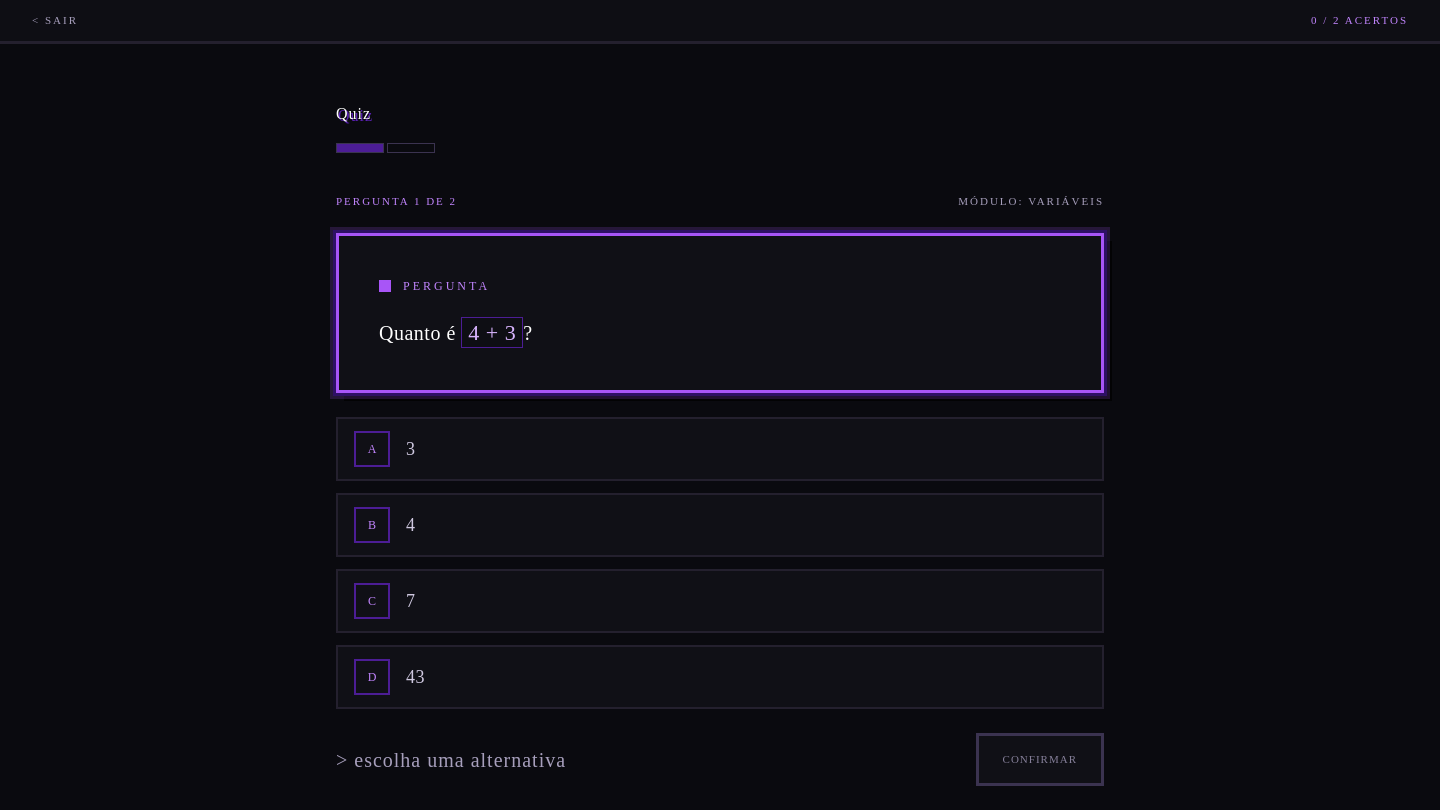
Test: QuizDaAula › conta o acerto e mostra a resposta certa quando erra
Click the button "C 7" at [372, 601], box 336,569 -> 1104,633
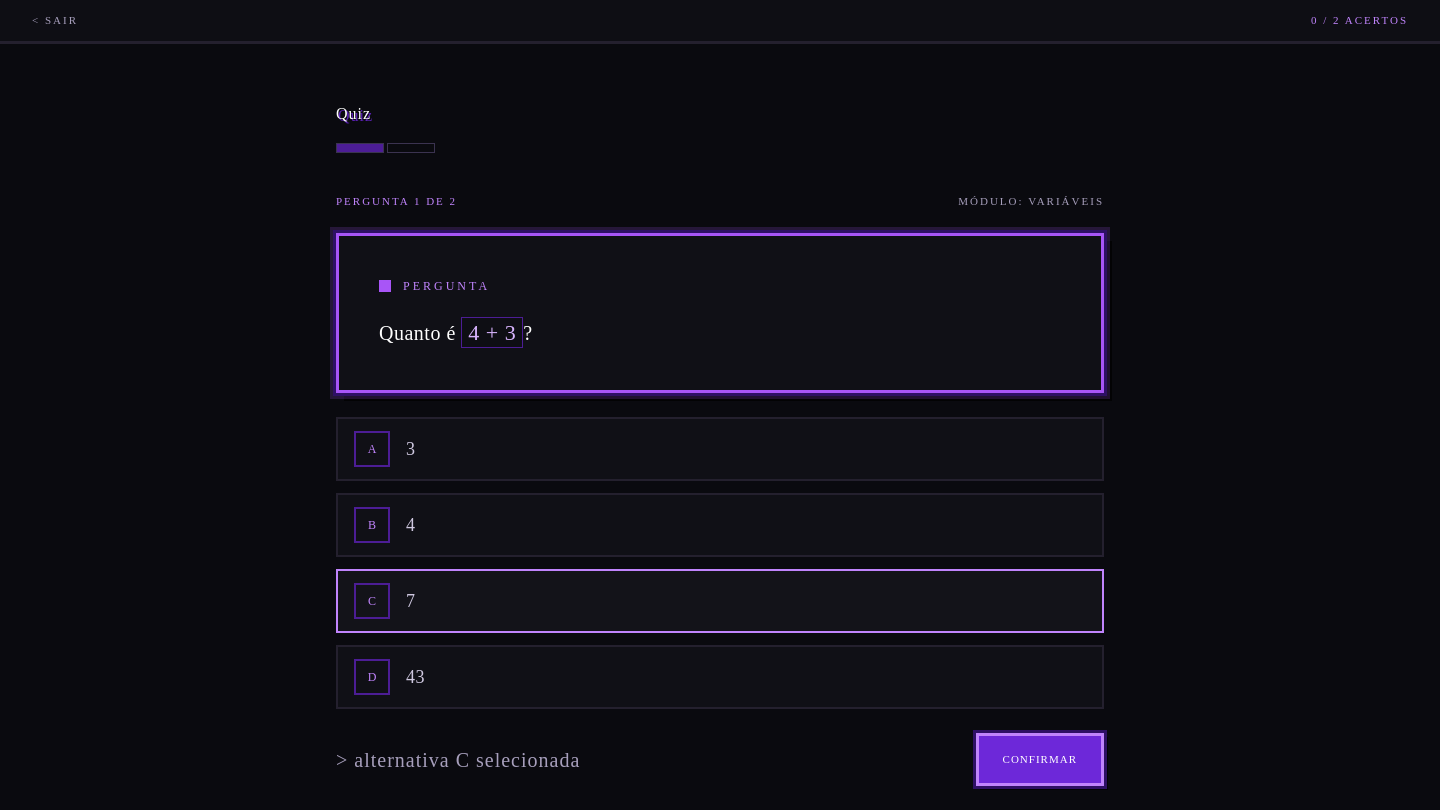
Click the button "Confirmar" at [1040, 760], box 976,733 -> 1104,786
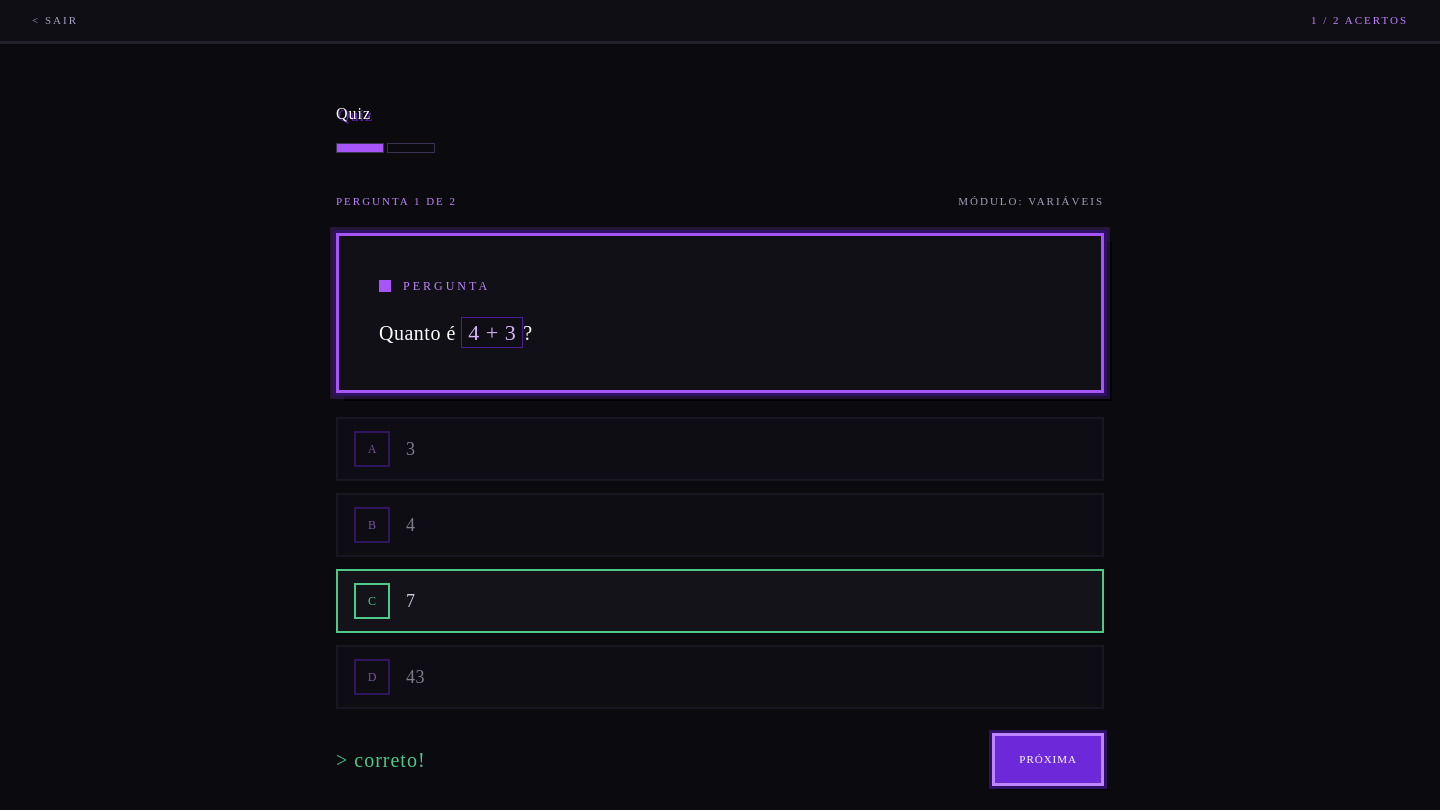
Now the text "> correto!" is shown, box 336,746 -> 426,774
Now the text "1 / 2 acertos" is shown, box 1311,12 -> 1408,28
Click the button "Próxima" at [1048, 760], box 992,733 -> 1104,786
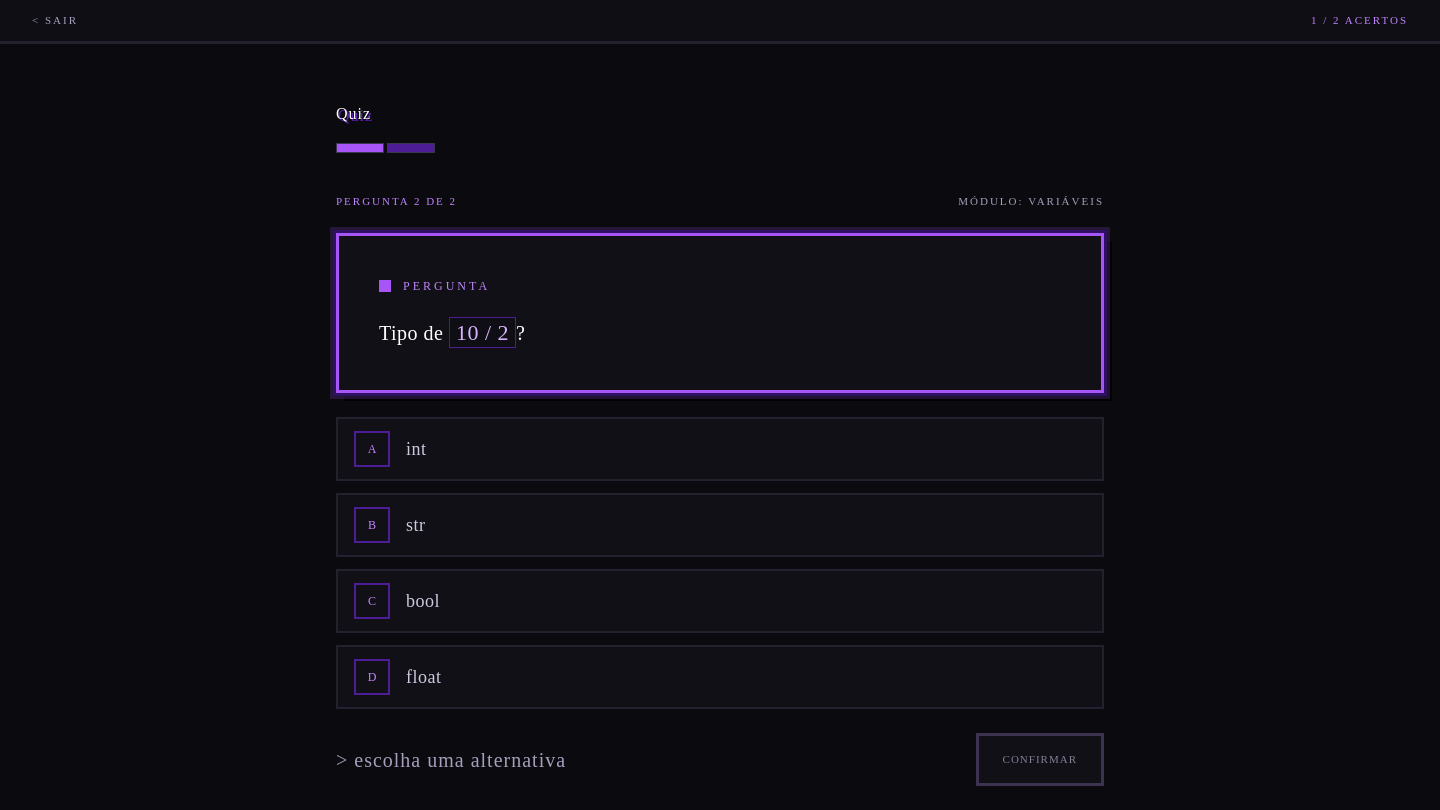
Click the button "A int" at [372, 449], box 336,417 -> 1104,481
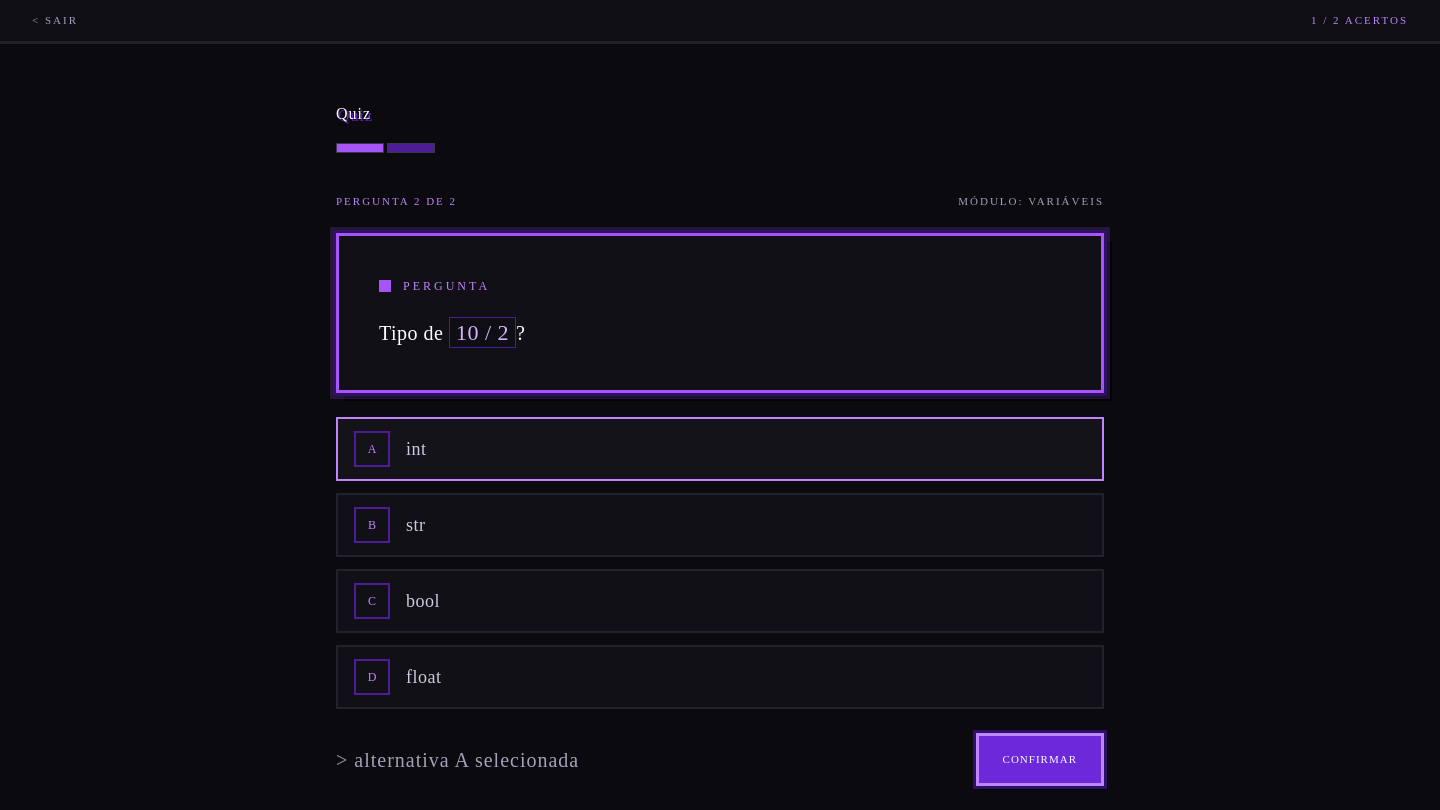
Click the button "Confirmar" at [1040, 760], box 976,733 -> 1104,786
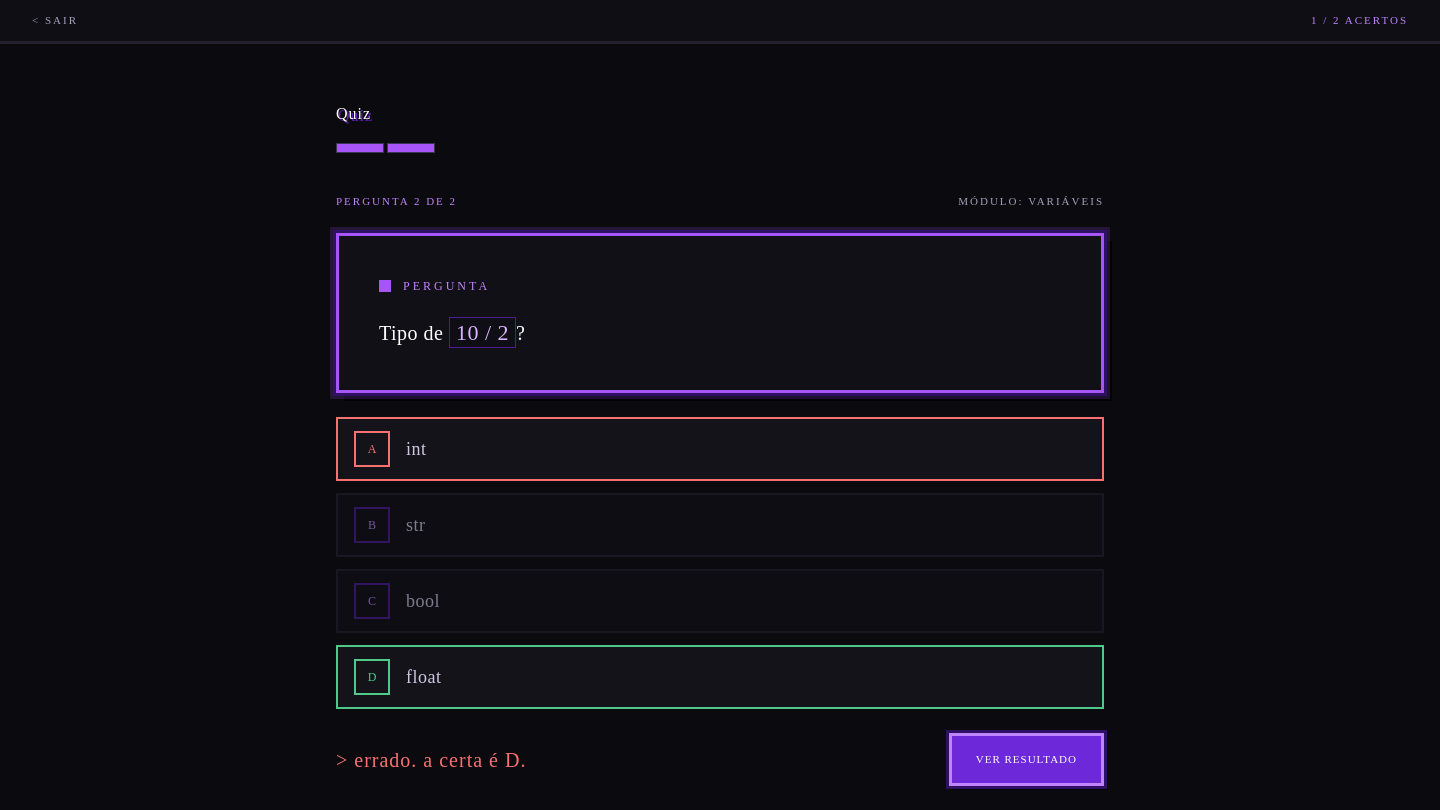
Now the text "> errado. a certa é D." is shown, box 336,746 -> 526,774
